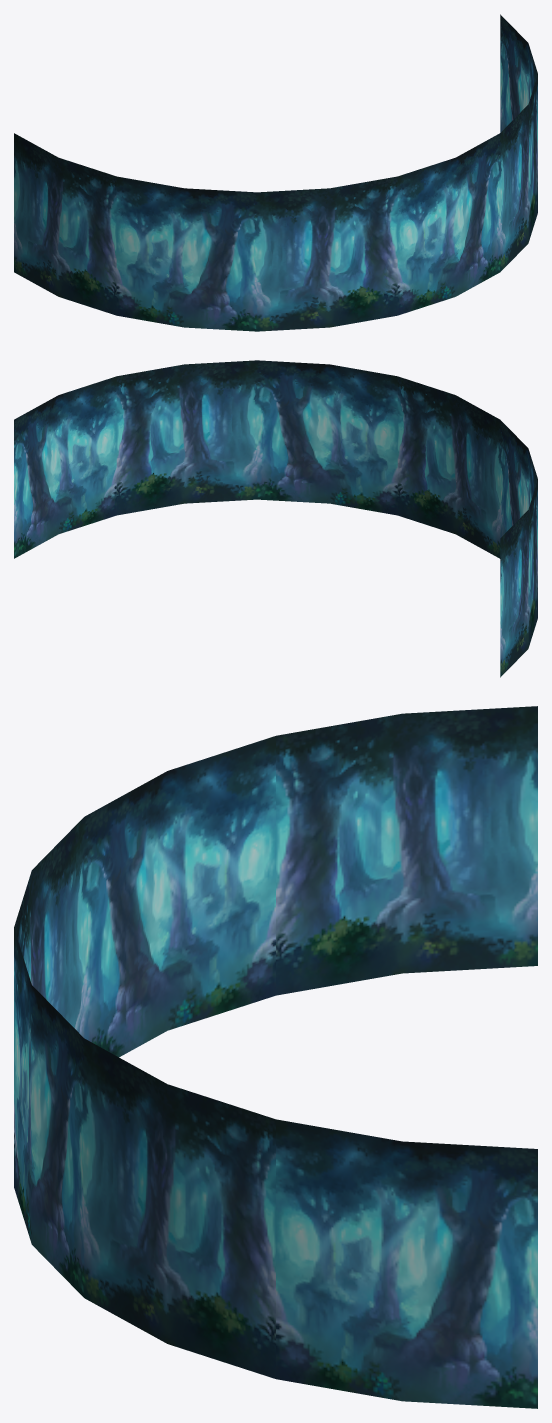
File: BG001_deco_05.fbx
The picture shows the model from 3 angles, top to bottom: view 1: azimuth 30°, elevation 25°; view 2: azimuth 150°, elevation 25°; view 3: azimuth 270°, elevation 25°; orthographic projection. The views are drawn at different scales.
Parts seen in each view (by area): view 1: backbg_02_ms_opq; view 2: backbg_02_ms_opq; view 3: backbg_02_ms_opq.
Boxes of the visible parts, left/top/right/bottom form: backbg_02_ms_opq: left=14, top=14, right=537, bottom=331; backbg_02_ms_opq: left=14, top=360, right=537, bottom=677; backbg_02_ms_opq: left=14, top=706, right=537, bottom=1408.
Bounding box in the file's own units: 3971 × 1086 × 1985.
